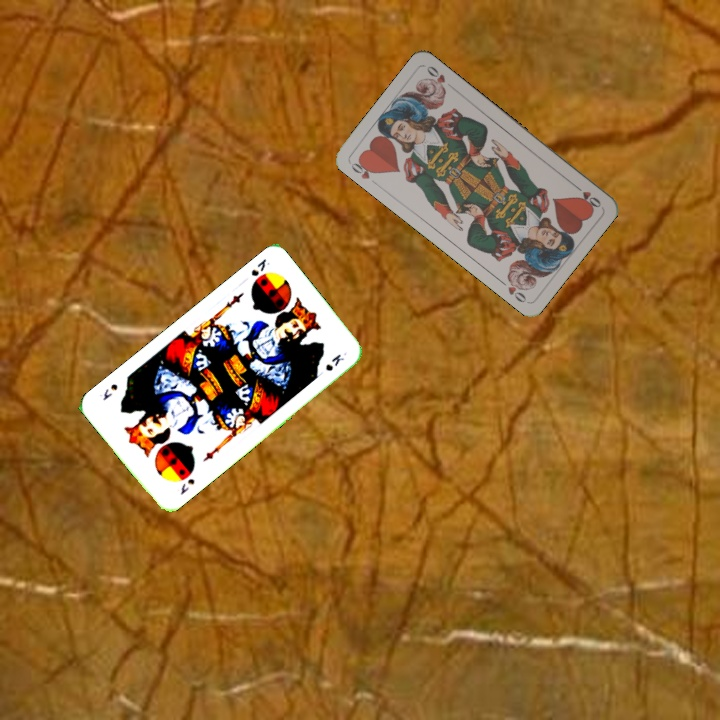HO: (570, 180, 604, 210), (347, 155, 379, 182)
SK: (247, 254, 273, 279), (176, 474, 197, 498)
